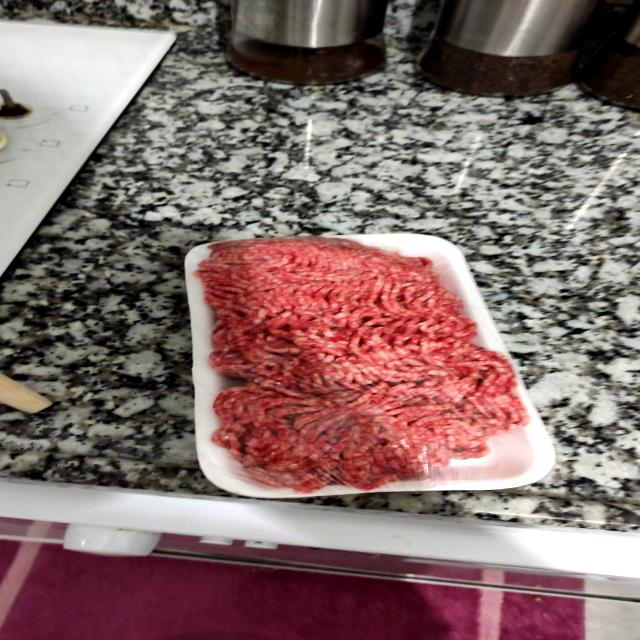ground meat: (176, 226, 542, 497)
